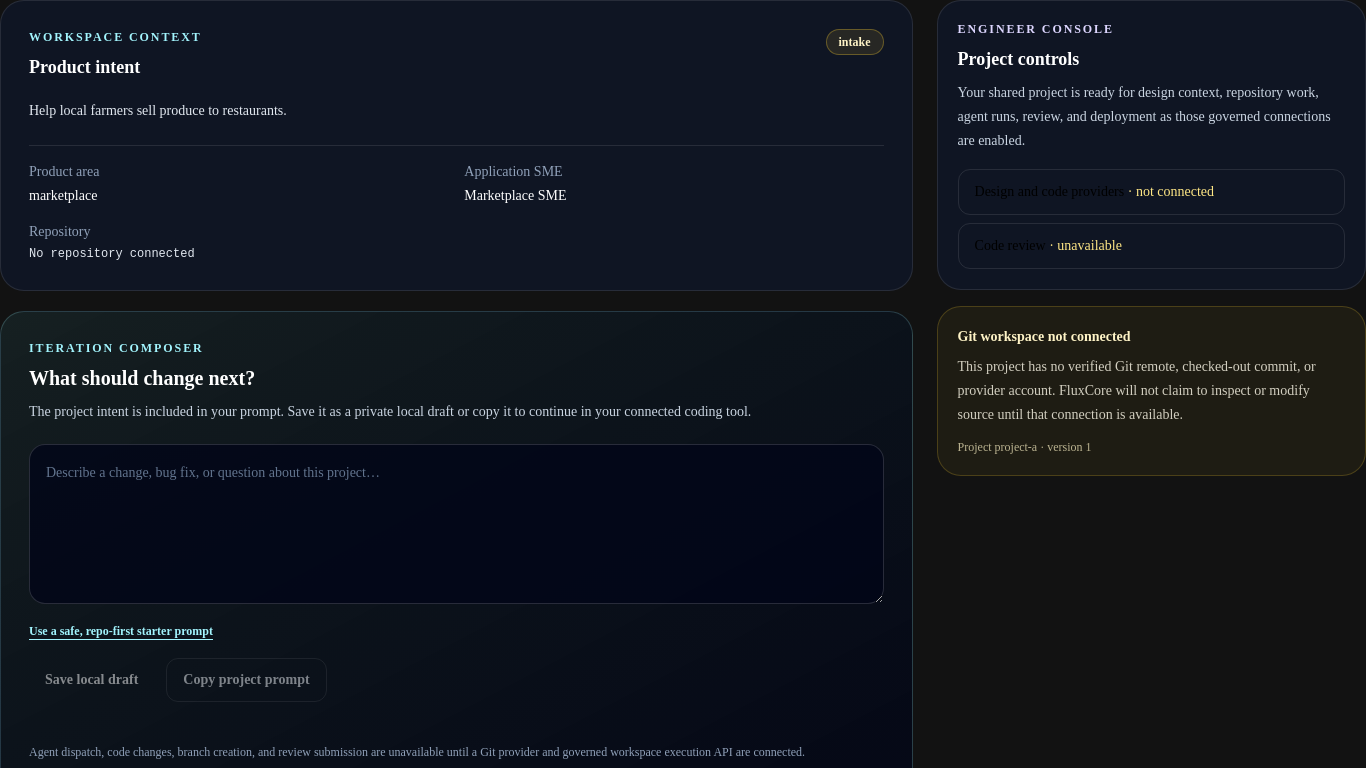
carries shared product context into an iteration prompt and saves an explicitly local draft
Expected: the text "Help local farmers sell produce to restaurants." is shown, [29,103,287,118]
Step 1. Type "Add farmer inventory management." into the text box named "Describe the next iteration" → (456, 524), box [29,444,884,604]
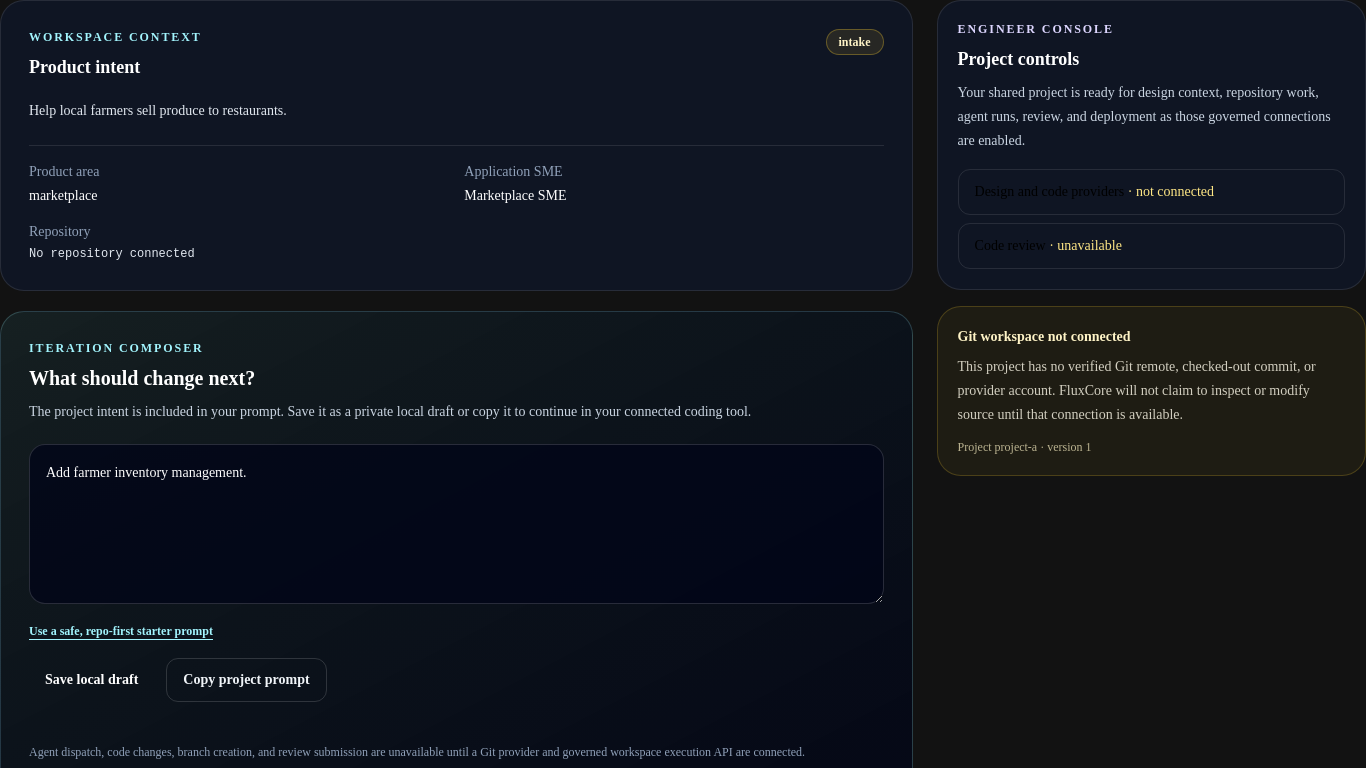
Step 2. Click the button "Save local draft" → (92, 680), box [29,658,154,702]
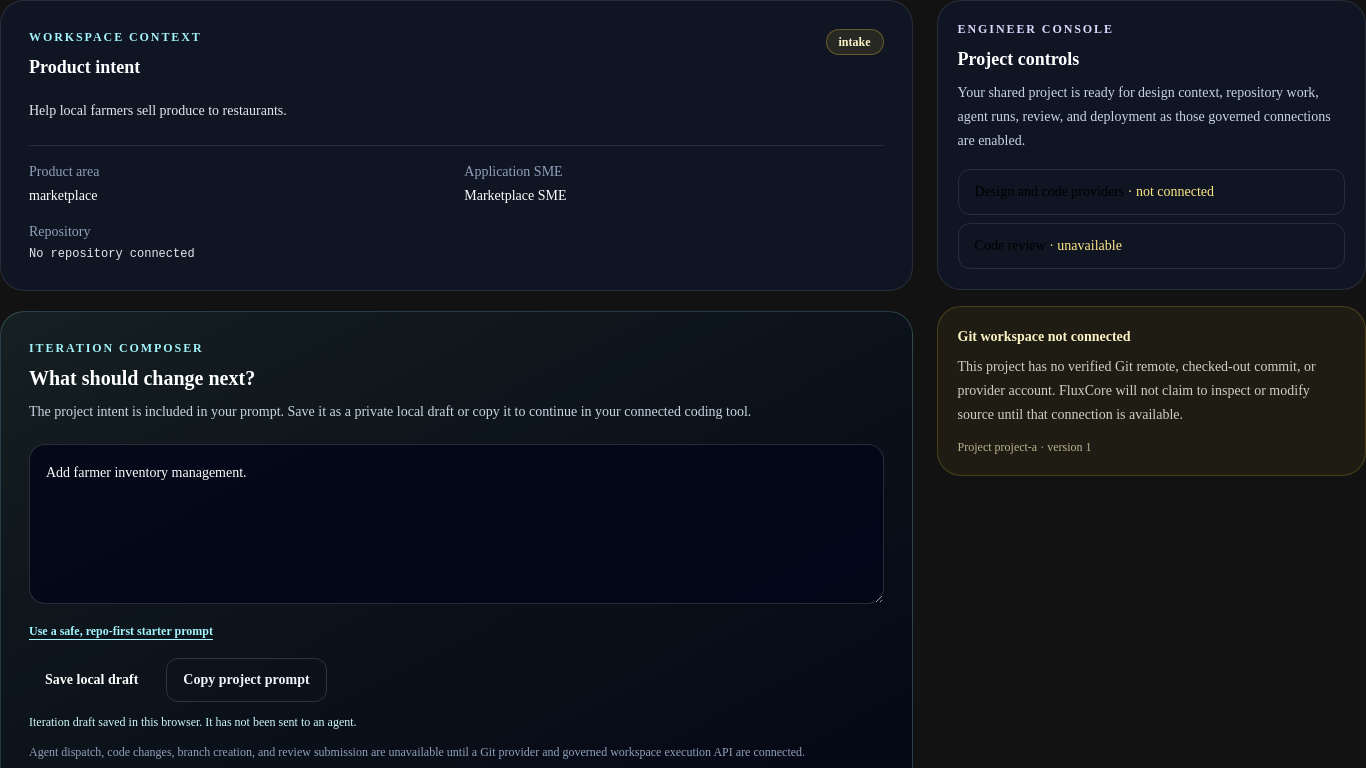
Expected: the text "Agent dispatch, code changes, branch creation" is shown, [29,745,805,759]
Expected: the text "Iteration draft saved in this browser" is shown, [29,715,357,729]
